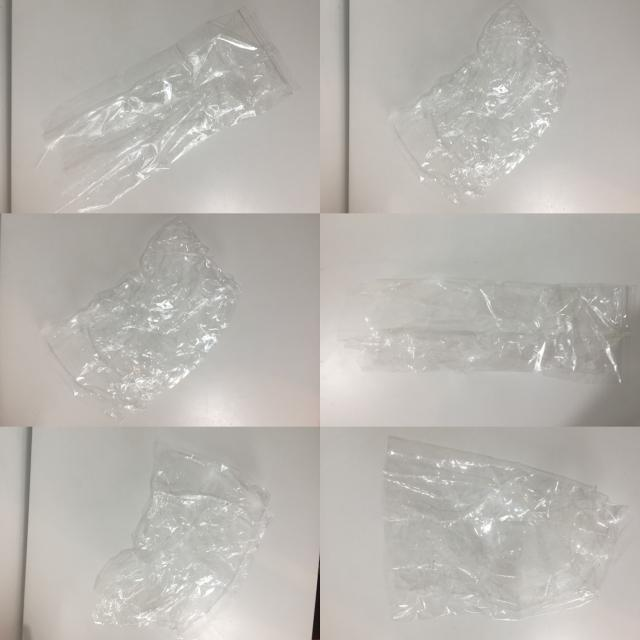Single-layer Plastic: (39, 8, 299, 211), (383, 436, 630, 621), (41, 218, 240, 420), (389, 2, 569, 204), (93, 441, 273, 639), (338, 279, 632, 383)
